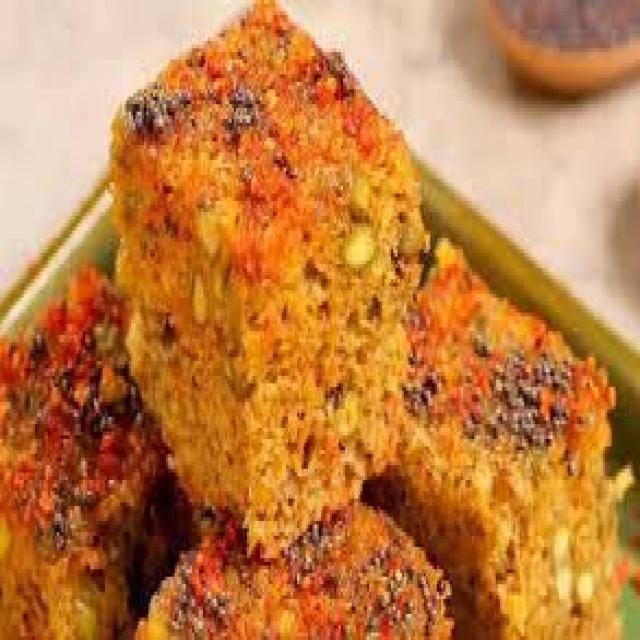DHOKLA: (0, 0, 631, 636)
